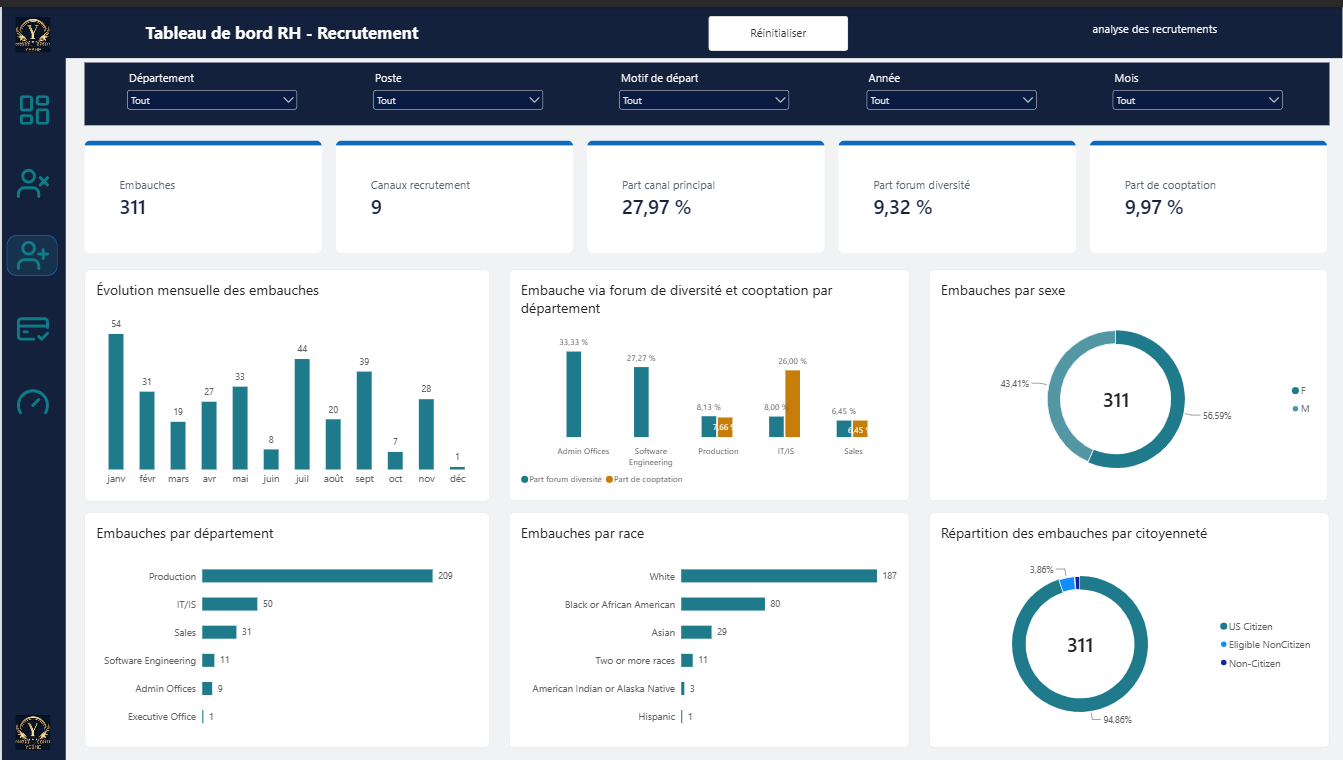

The page's visual inventory and layout, read from the dashboard file:
{"tool":"powerbi","page":{"name":"Recrutement","canvas":[1920,1080],"ordinal":2},"visuals":[{"type":"image","box":[19.3,15,50,50],"z":0,"group":"g1"},{"type":"shape","box":[117.1,80.5,1783.5,90.3],"z":0},{"type":"shape","box":[0,0,91.5,1080.8],"z":1000},{"type":"image","box":[19.3,1014.1,50,50],"z":1000,"group":"g1"},{"type":"shape","box":[0,0,1920.1,73.2],"z":2000},{"type":"image","box":[21.9,122,50,50],"z":2000,"group":"g1"},{"type":"cardVisual","fields":{"Data":["_Mesures.Embauches","_Mesures.Canaux recrutement","_Mesures.Part canal principal","_Mesures.Part forum diversité","_Mesures.Part de cooptation"]},"box":[117.1,190.3,1783.5,161],"z":3000},{"type":"image","box":[19.5,226.9,50,50],"z":3000,"group":"g1"},{"type":"slicer","fields":{"Values":["dim_date.Month name"]},"box":[1585.9,90.3,253.7,73.2],"z":4000},{"type":"image","box":[19.5,331.8,50,50],"z":4000,"group":"g1"},{"type":"clusteredColumnChart","title":"Évolution mensuelle des embauches","fields":{"Category":["dim_date.Month name"],"Y":["_Mesures.Embauches"]},"box":[117.1,375.7,580.7,331.8],"z":5000},{"type":"image","box":[19.5,436.7,50,50],"z":5000,"group":"g1"},{"type":"clusteredColumnChart","title":"Embauche via forum de diversité et cooptation par département","fields":{"Category":["dim_department.Department"],"Y":["_Mesures.Part forum diversité","_Mesures.Part de cooptation"]},"box":[725.9,375.9,573.8,331.4],"z":6000},{"type":"image","box":[19.5,541.6,50,50],"z":6000,"group":"g1"},{"type":"donutChart","title":"Embauches par sexe","fields":{"Category":["dim_employee.Sex"],"Y":["_Mesures.Embauches"]},"box":[1328.1,375.9,571.3,331.4],"z":7000},{"type":"clusteredBarChart","title":"Embauches par département ","fields":{"Category":["dim_department.Department"],"Y":["_Mesures.Embauches"]},"box":[117.1,724.6,580.7,336.7],"z":8000},{"type":"clusteredBarChart","title":"Embauches par race","fields":{"Category":["dim_employee.RaceDesc"],"Y":["_Mesures.Embauches"]},"box":[727.1,724.6,573.4,336.7],"z":9000},{"type":"donutChart","title":"Répartition des embauches par citoyenneté","fields":{"Category":["dim_employee.CitizenDesc"],"Y":["_Mesures.Embauches"]},"box":[1327.3,724.6,573.4,336.7],"z":10000},{"type":"slicer","fields":{"Values":["dim_date.Year"]},"box":[1232.7,90.3,253.7,73.2],"z":11000},{"type":"slicer","fields":{"Values":["dim_emp_status.TermReason"]},"box":[879.6,90.3,253.7,73.2],"z":12000},{"type":"slicer","fields":{"Values":["dim_position.Position"]},"box":[526.4,90.3,253.7,73.2],"z":13000},{"type":"slicer","fields":{"Values":["dim_department.Department"]},"box":[173.2,90.3,253.7,73.2],"z":14000},{"type":"textbox","box":[138.5,19.8,526.8,34.6],"z":15000},{"type":"actionButton","box":[1011.5,12.4,200,50],"z":16000},{"type":"textbox","box":[1563.1,19.8,301.7,27.2],"z":17000},{"type":"group","id":"g1","title":"Groupe 1","box":[19.3,15,52.6,1049.1],"z":18000},{"type":"shape","box":[7.3,326.9,73.2,58.6],"z":19000}]}

Visuals, with their boxes on the page's 1920x1080 design canvas (x1, y1, x2, y2). These are canvas units, not pixel positions in the 1343x760 screenshot, which may show the page scaled, cropped or inside an application window:
image: [x1=19, y1=15, x2=69, y2=65]
shape: [x1=117, y1=80, x2=1901, y2=171]
shape: [x1=0, y1=0, x2=92, y2=1081]
image: [x1=19, y1=1014, x2=69, y2=1064]
shape: [x1=0, y1=0, x2=1920, y2=73]
image: [x1=22, y1=122, x2=72, y2=172]
cardVisual - _Mesures.Embauches x _Mesures.Canaux recrutement: [x1=117, y1=190, x2=1901, y2=351]
image: [x1=20, y1=227, x2=70, y2=277]
slicer - dim_date.Month name: [x1=1586, y1=90, x2=1840, y2=164]
image: [x1=20, y1=332, x2=70, y2=382]
"Évolution mensuelle des embauches" clusteredColumnChart: [x1=117, y1=376, x2=698, y2=708]
image: [x1=20, y1=437, x2=70, y2=487]
"Embauche via forum de diversité et cooptation par département" clusteredColumnChart: [x1=726, y1=376, x2=1300, y2=707]
image: [x1=20, y1=542, x2=70, y2=592]
"Embauches par sexe" donutChart: [x1=1328, y1=376, x2=1899, y2=707]
"Embauches par département " clusteredBarChart: [x1=117, y1=725, x2=698, y2=1061]
"Embauches par race" clusteredBarChart: [x1=727, y1=725, x2=1300, y2=1061]
"Répartition des embauches par citoyenneté" donutChart: [x1=1327, y1=725, x2=1901, y2=1061]
slicer - dim_date.Year: [x1=1233, y1=90, x2=1486, y2=164]
slicer - dim_emp_status.TermReason: [x1=880, y1=90, x2=1133, y2=164]
slicer - dim_position.Position: [x1=526, y1=90, x2=780, y2=164]
slicer - dim_department.Department: [x1=173, y1=90, x2=427, y2=164]
textbox: [x1=138, y1=20, x2=665, y2=54]
actionButton: [x1=1012, y1=12, x2=1212, y2=62]
textbox: [x1=1563, y1=20, x2=1865, y2=47]
"Groupe 1" group: [x1=19, y1=15, x2=72, y2=1064]
shape: [x1=7, y1=327, x2=80, y2=386]
